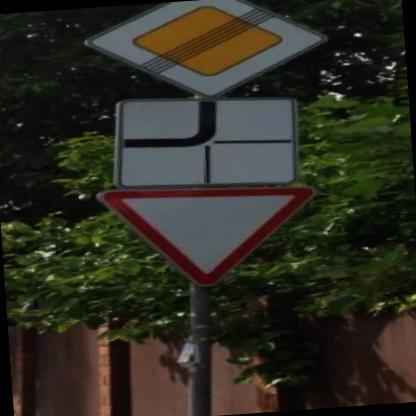road_sign: (87, 0, 327, 96), (99, 186, 315, 287), (115, 98, 297, 187)
